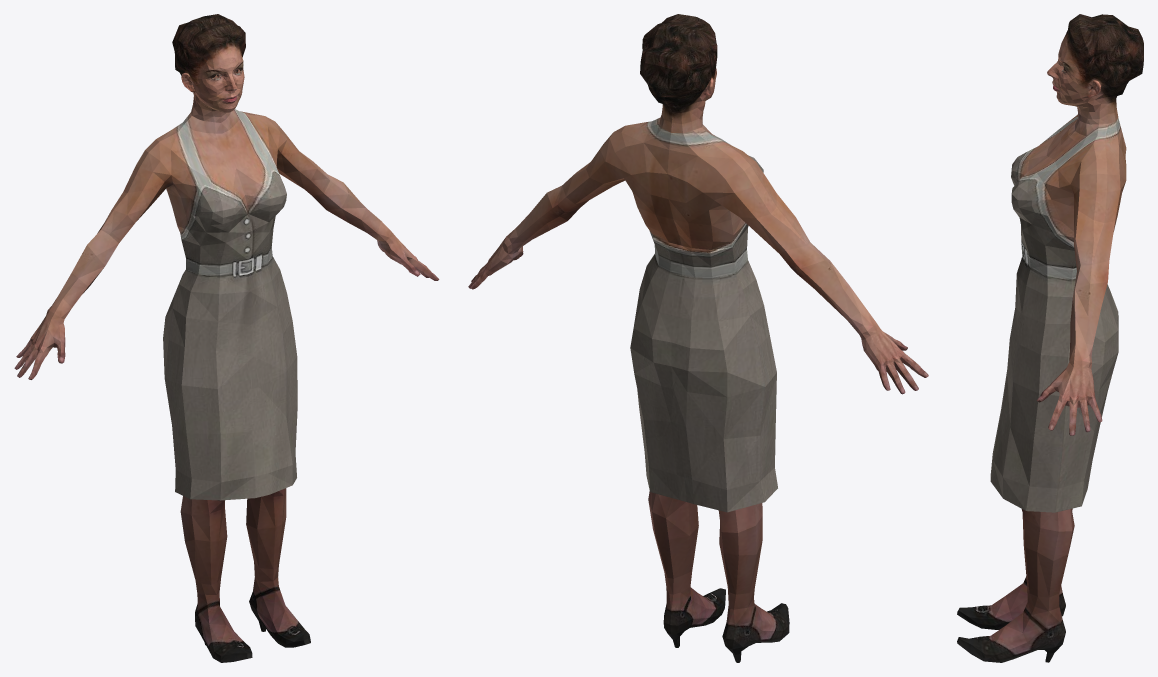
File: npc_cpros1l.glb
3 views of the same model, side by side, from view 1: azimuth 30°, elevation 25°; view 2: azimuth 150°, elevation 25°; view 3: azimuth 270°, elevation 25° (orthographic). The views are drawn at different scales.
Parts seen in each view (by area): view 1: npc; view 2: npc; view 3: npc.
Boxes of the visible parts, <box> form: npc: <box>14,14,439,662</box>; npc: <box>468,14,928,662</box>; npc: <box>957,14,1143,662</box>.
Size of the model in its own units: 0.7191 by 1 by 0.2697.
1 material, 1 textured.
